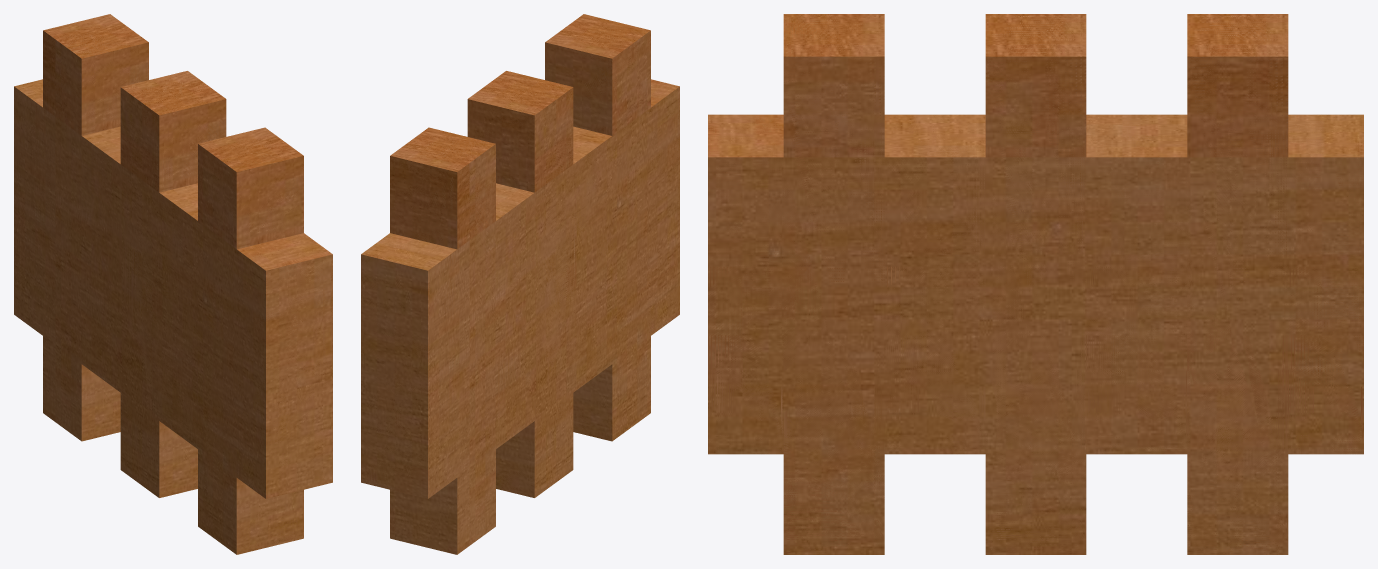
The model's file is original-50.obj.
3 renders of one model, left to right at view 1: azimuth 30°, elevation 25°; view 2: azimuth 150°, elevation 25°; view 3: azimuth 270°, elevation 25°, orthographic. The views are drawn at different scales.
Parts seen in each view (by area): view 1: Partition_1_1/Partition_1/partition1/partition/mesh47/mesh47-geo; view 2: Partition_1_1/Partition_1/partition1/partition/mesh47/mesh47-geo; view 3: Partition_1_1/Partition_1/partition1/partition/mesh47/mesh47-geo.
Boxes of the visible parts, x1,y1,x2,y2 form: Partition_1_1/Partition_1/partition1/partition/mesh47/mesh47-geo: (14, 14, 332, 554); Partition_1_1/Partition_1/partition1/partition/mesh47/mesh47-geo: (361, 14, 679, 554); Partition_1_1/Partition_1/partition1/partition/mesh47/mesh47-geo: (708, 14, 1363, 554).
Bounding box in the file's own units: 0.0203 × 0.1106 × 0.1319.
